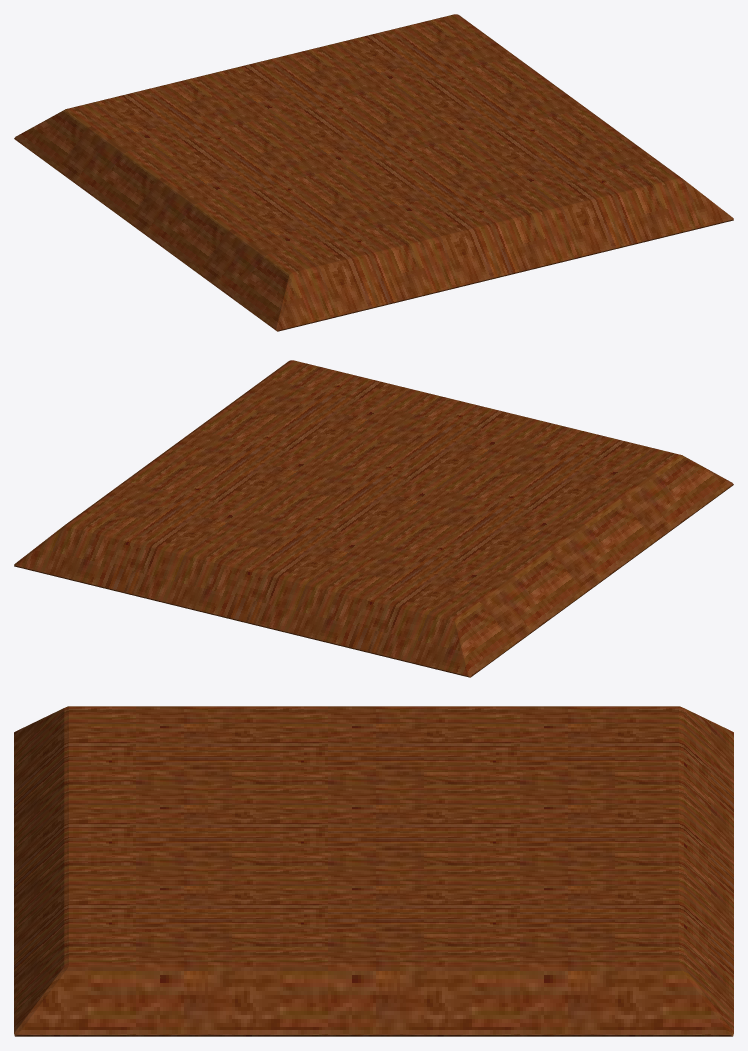
Rendered from floor.glb.
3 renders of one model, top to bottom at view 1: azimuth 30°, elevation 25°; view 2: azimuth 150°, elevation 25°; view 3: azimuth 270°, elevation 25°, orthographic. The views are drawn at different scales.
Visible parts, largest first — view 1: Floor; view 2: Floor; view 3: Floor.
Part boxes in pixels (left/top/right/bottom): Floor: left=14, top=14, right=733, bottom=331; Floor: left=14, top=360, right=733, bottom=677; Floor: left=14, top=706, right=733, bottom=1036.
Bounding box in the file's own units: 36.12 × 2.72 × 36.12.
1 material, 1 textured.
